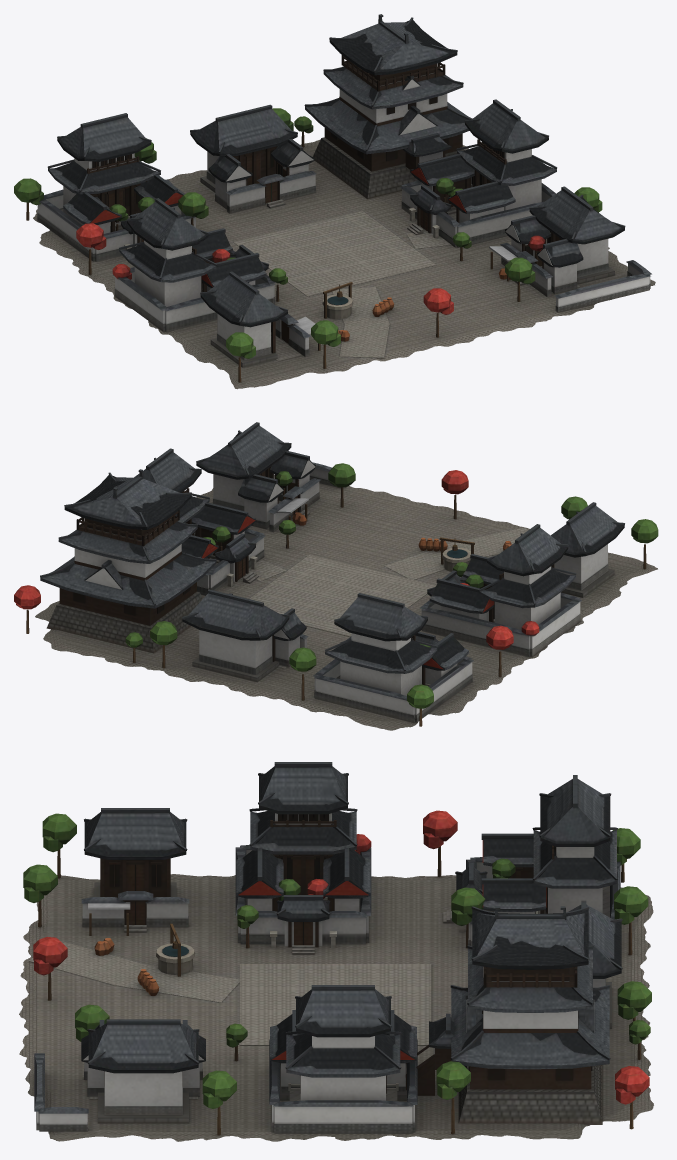
The model's file is kingdoms-town-small-b-japan.glb.
3 views of the same model, one above another, from view 1: azimuth 30°, elevation 25°; view 2: azimuth 150°, elevation 25°; view 3: azimuth 270°, elevation 25° (orthographic). The views are drawn at different scales.
Visible parts, largest first — view 1: LOD0; view 2: LOD0; view 3: LOD0.
Boxes of the visible parts, x1,y1,x2,y2 form: LOD0: (14, 14, 655, 389); LOD0: (14, 422, 658, 730); LOD0: (19, 762, 653, 1141).
Size of what is drawn, in the model's own units: 4.04 by 1.29 by 4.06.
3 materials, 3 textured.
